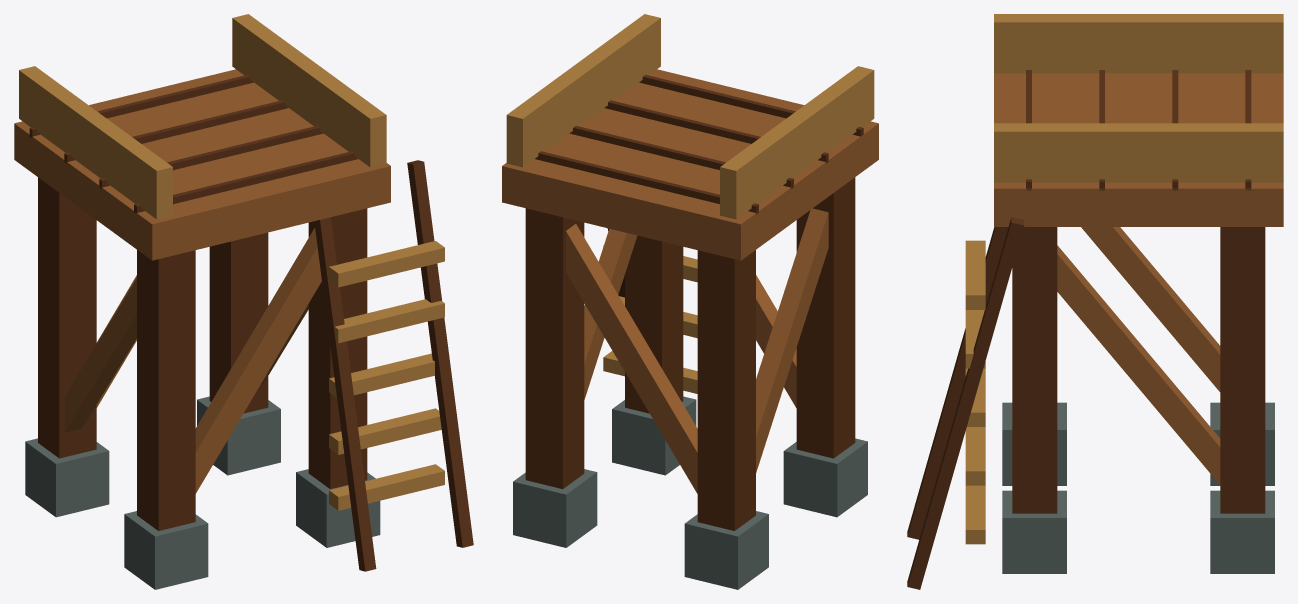
The model's file is tower_base_l1.fbx.
3 renders of one model, left to right at view 1: azimuth 30°, elevation 25°; view 2: azimuth 150°, elevation 25°; view 3: azimuth 270°, elevation 25°, orthographic. The views are drawn at different scales.
Parts seen in each view (by area): view 1: tower_base_l1; view 2: tower_base_l1; view 3: tower_base_l1.
Part boxes in pixels (x1,y1,x2,y2): tower_base_l1: [14, 14, 473, 589]; tower_base_l1: [502, 14, 878, 589]; tower_base_l1: [907, 14, 1283, 589].
Size of the model in its own units: 1.21 by 1.74 by 1.34.
